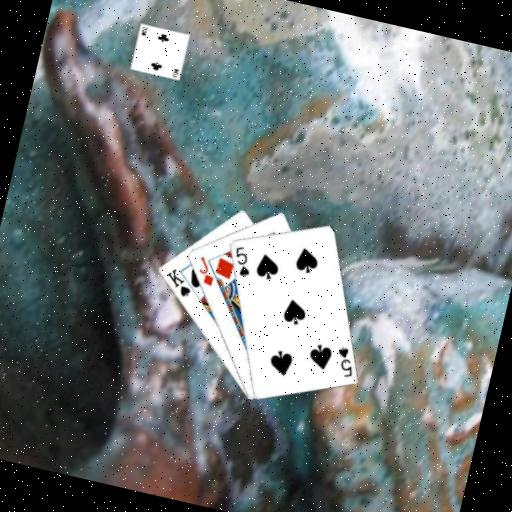5S: (329, 342, 360, 380), (227, 242, 257, 280)
JD: (191, 252, 221, 288)
KS: (159, 264, 196, 300)
